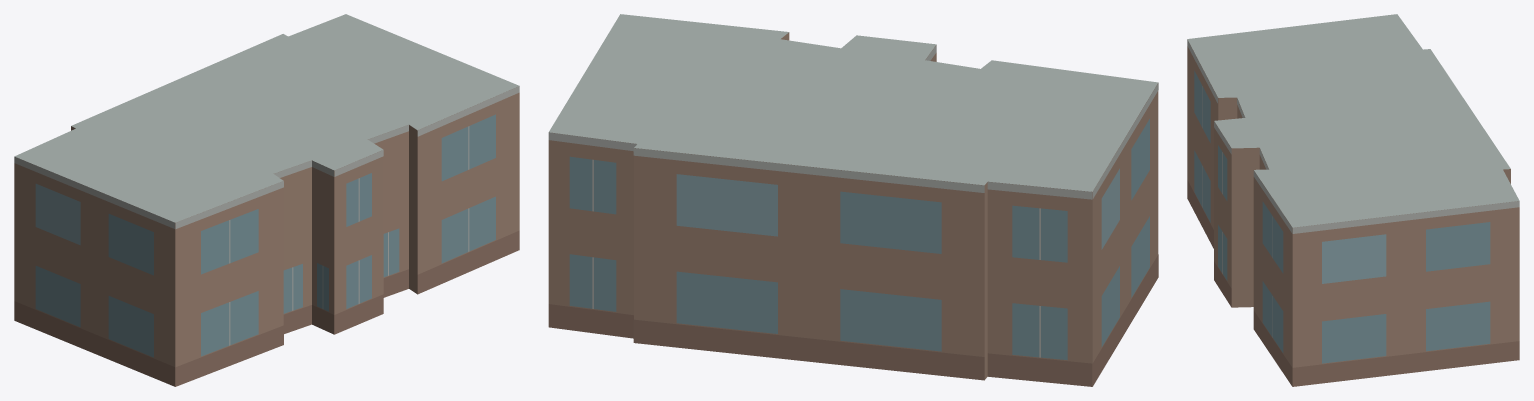
The model's file is survey-upis-32624091.glb.
The picture shows the model from 3 angles, left to right: view 1: azimuth 30°, elevation 25°; view 2: azimuth 150°, elevation 25°; view 3: azimuth 270°, elevation 25°; orthographic projection. The views are drawn at different scales.
Visible parts, largest first — view 1: survey-upis-32624091.tmp; view 2: survey-upis-32624091.tmp; view 3: survey-upis-32624091.tmp.
Boxes of the visible parts, x1=… form: survey-upis-32624091.tmp: x1=14, y1=14, x2=519, y2=386; survey-upis-32624091.tmp: x1=548, y1=14, x2=1158, y2=386; survey-upis-32624091.tmp: x1=1187, y1=14, x2=1519, y2=386.
Bounding box in the file's own units: 17.57 × 6.1 × 11.55.
